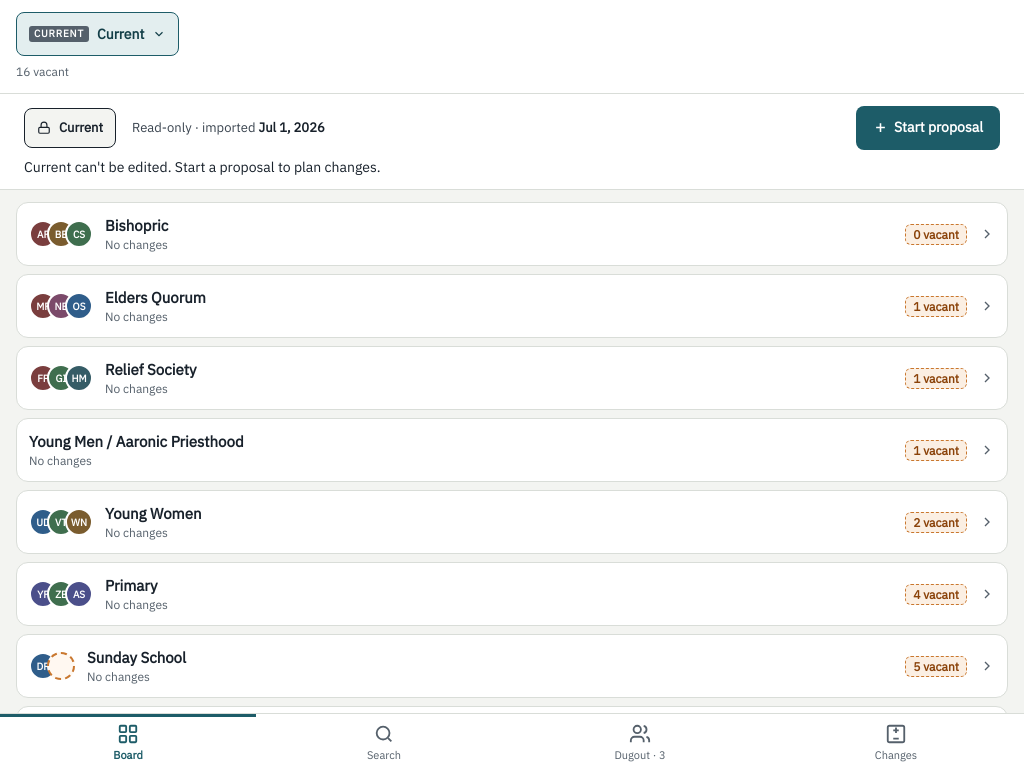
Scenario: PhoneApp › start proposal opens the dialog
What coordinates should you click on to do the following:
click the button with aria-label "Switch board"
I would click on:
 (98, 34)
Its box is [16,12,179,56].
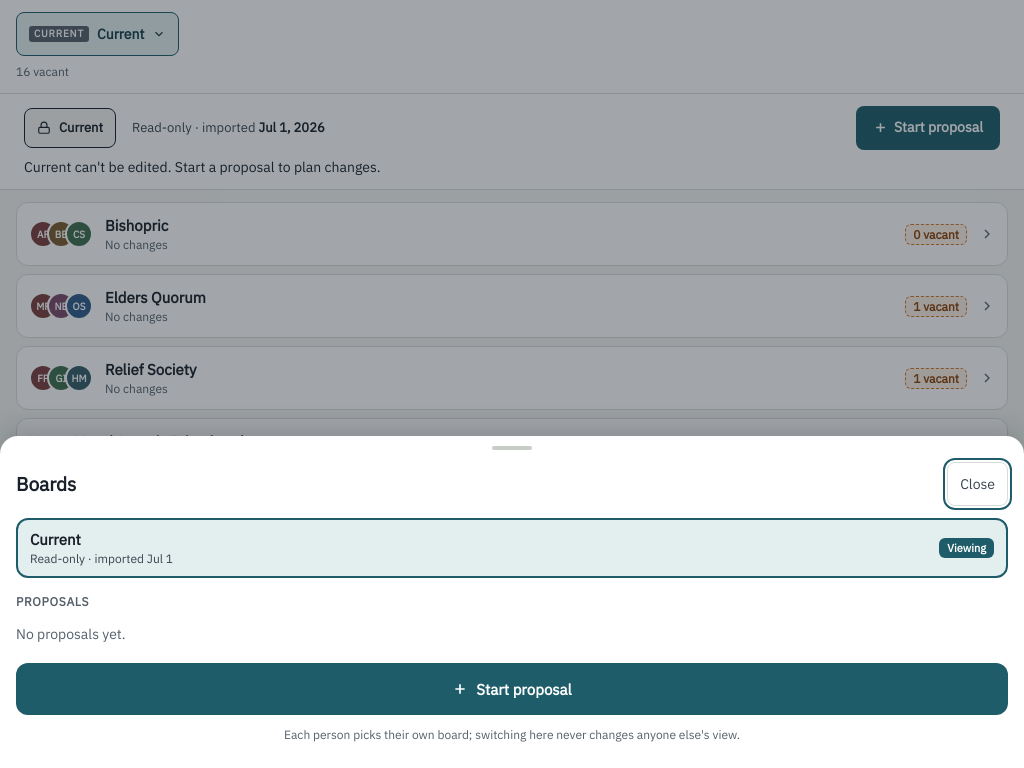
What coordinates should you click on to do the following:
click the button "Start proposal"
I would click on:
 (512, 689)
Its box is [16,663,1008,715].
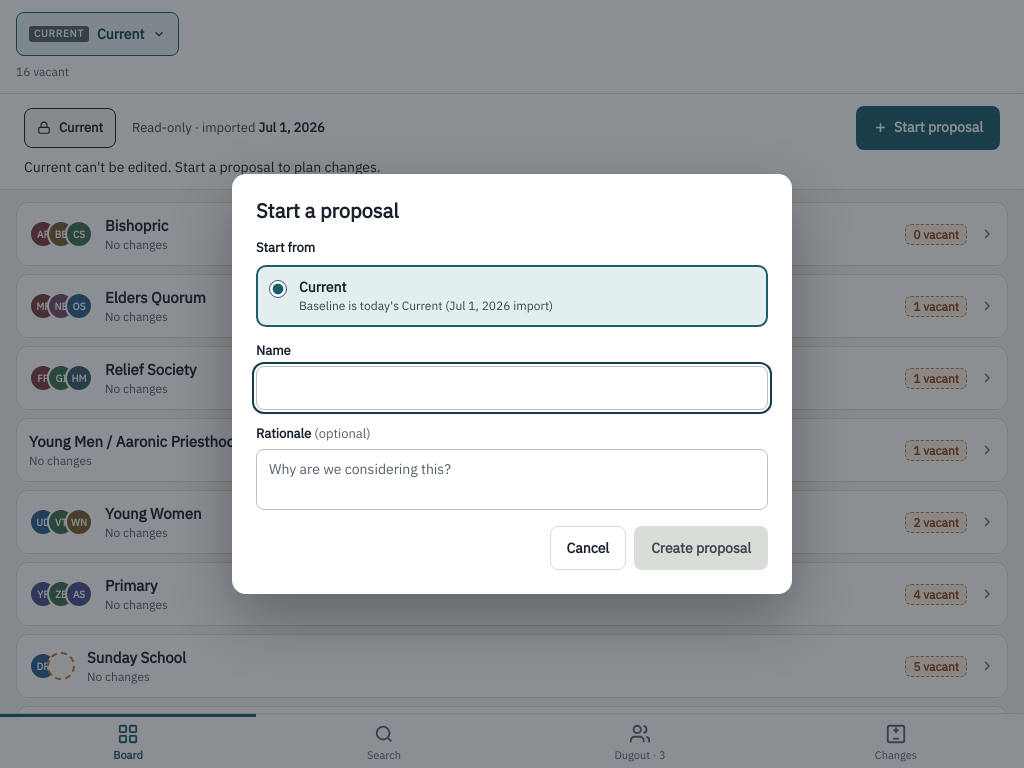
Expected: the dialog "Start a proposal" is shown, [232,174,792,594]
